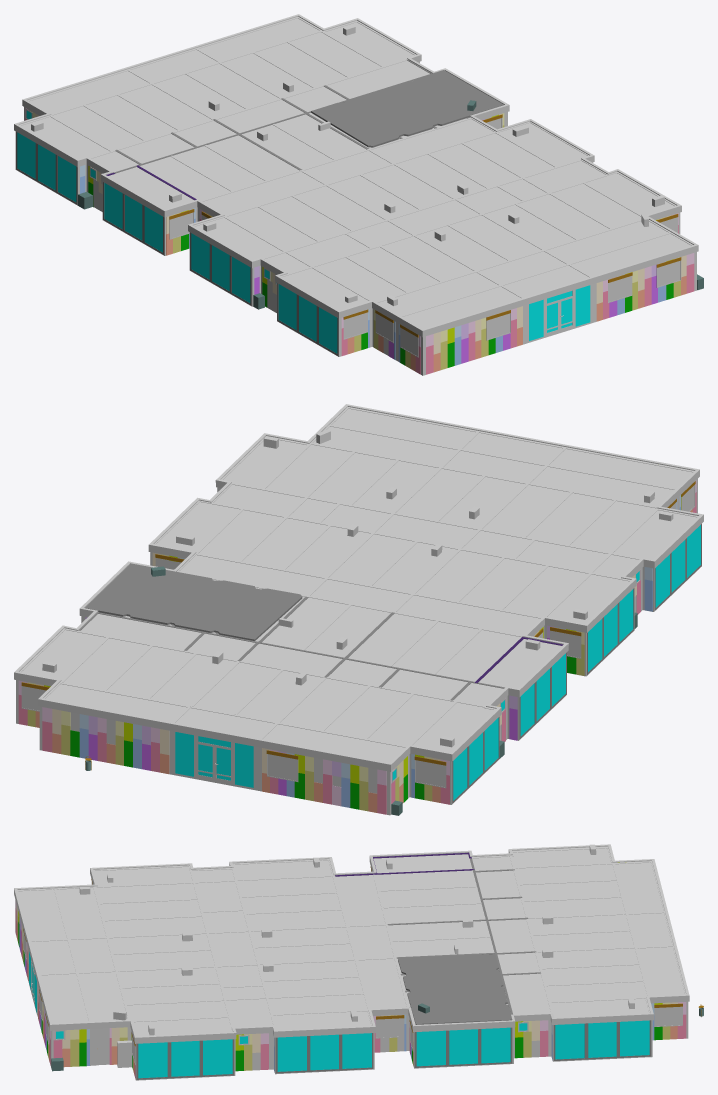
The picture shows the model from 3 angles, top to bottom: view 1: azimuth 30°, elevation 25°; view 2: azimuth 150°, elevation 25°; view 3: azimuth 270°, elevation 25°; orthographic projection. The views are drawn at different scales.
Visible parts, largest first — view 1: 1qVjC9$j17UB4YVnpF1fy$, 1LM45m0119gfQk9iad$iDw, 2umVHgGW95nAttWsOmtr00, 0pLhQjgWz3sQ1QCVJHSbLE, 2RBtmUSL5A_P3yolUyAo76, 2h352UPZr5FxDdvl3umXK3, 14FX$Aplb7hRfaIHmW5b3r, 1ql1GWHPn1fefRaZdzGN7B, 2ccsvSR0vApBrurevHvUMd, 1zt1VQk$T1QuX31Yain7qp, 0rSqpfl8LElhF_l5vvaZuo, 3jBndH_f182uEM_AEgCD_1 (+7 smaller); view 2: 1qVjC9$j17UB4YVnpF1fy$, 1LM45m0119gfQk9iad$iDw, 2umVHgGW95nAttWsOmtr00, 0pLhQjgWz3sQ1QCVJHSbLE, 3A3Kzpt313rBQL8hRQ4KYj, 0VMi2xszfD2e74NOTU6hOD, 0Emhd6clrEeh8a3dtoPwat, 2SbcaqiVzCth4tepOSvSIG, 2N7IhhL75AE9fuOKkMWRxw; view 3: 1qVjC9$j17UB4YVnpF1fy$, 1LM45m0119gfQk9iad$iDw, 2umVHgGW95nAttWsOmtr00, 0pLhQjgWz3sQ1QCVJHSbLE, 1_1nmsPMP9NgV4YkKfaJqn, 07z2zFu694p9q4l1SZAF7S, 29trNAwyj3XOOB6LsPTSdk, 1ohinn6sf3mwNnHiDhuD3z, 3_qK0hDyX0$xrNaHlTidcd, 1$5KV78r956OyH5CGSmMz9, 25oQmfwDP47ALG3B4dOJfY, 0SuCMbZOX4e9X_H1tlEAkc (+8 smaller).
Part boxes in pixels (box(x1,y1,x2,y2)): 1qVjC9$j17UB4YVnpF1fy$: box(15, 16, 696, 375); 1LM45m0119gfQk9iad$iDw: box(14, 14, 698, 337); 2umVHgGW95nAttWsOmtr00: box(311, 70, 503, 147); 0pLhQjgWz3sQ1QCVJHSbLE: box(114, 60, 500, 173); 2RBtmUSL5A_P3yolUyAo76: box(191, 233, 209, 279); 2h352UPZr5FxDdvl3umXK3: box(144, 206, 162, 252); 14FX$Aplb7hRfaIHmW5b3r: box(17, 132, 35, 178); 1ql1GWHPn1fefRaZdzGN7B: box(319, 307, 337, 353); 2ccsvSR0vApBrurevHvUMd: box(232, 257, 250, 302); 1zt1VQk$T1QuX31Yain7qp: box(104, 183, 122, 228); 0rSqpfl8LElhF_l5vvaZuo: box(58, 156, 76, 201); 3jBndH_f182uEM_AEgCD_1: box(278, 284, 296, 329); 1qVjC9$j17UB4YVnpF1fy$: box(16, 407, 701, 815); 1LM45m0119gfQk9iad$iDw: box(14, 404, 703, 771); 2umVHgGW95nAttWsOmtr00: box(85, 563, 302, 640); 0pLhQjgWz3sQ1QCVJHSbLE: box(79, 564, 504, 700); 3A3Kzpt313rBQL8hRQ4KYj: box(235, 743, 253, 787); 0VMi2xszfD2e74NOTU6hOD: box(175, 732, 193, 776); 0Emhd6clrEeh8a3dtoPwat: box(195, 735, 233, 785); 2SbcaqiVzCth4tepOSvSIG: box(415, 760, 446, 788); 2N7IhhL75AE9fuOKkMWRxw: box(267, 754, 298, 781); 1qVjC9$j17UB4YVnpF1fy$: box(15, 846, 688, 1080); 1LM45m0119gfQk9iad$iDw: box(14, 844, 689, 1043); 2umVHgGW95nAttWsOmtr00: box(398, 954, 512, 1024); 0pLhQjgWz3sQ1QCVJHSbLE: box(387, 858, 536, 1014); 1_1nmsPMP9NgV4YkKfaJqn: box(203, 1039, 232, 1075); 07z2zFu694p9q4l1SZAF7S: box(620, 1020, 649, 1056); 29trNAwyj3XOOB6LsPTSdk: box(555, 1023, 584, 1059); 1ohinn6sf3mwNnHiDhuD3z: box(138, 1042, 167, 1078); 3_qK0hDyX0$xrNaHlTidcd: box(342, 1033, 371, 1068); 1$5KV78r956OyH5CGSmMz9: box(481, 1027, 510, 1063); 25oQmfwDP47ALG3B4dOJfY: box(277, 1036, 306, 1071); 0SuCMbZOX4e9X_H1tlEAkc: box(416, 1030, 445, 1066).
Bounding box in the file's own units: 27.81 × 3.32 × 41.93.
